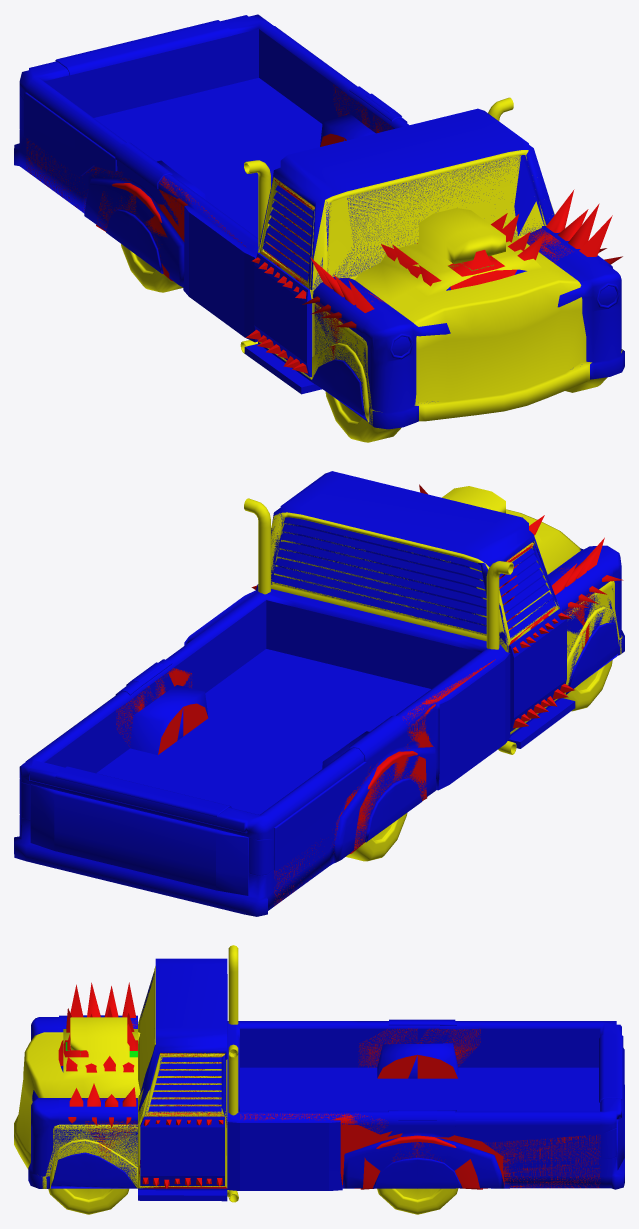
Rendered from truck_unrigged_2.fbx.
The picture shows the model from 3 angles, top to bottom: view 1: azimuth 30°, elevation 25°; view 2: azimuth 150°, elevation 25°; view 3: azimuth 270°, elevation 25°; orthographic projection. The views are drawn at different scales.
Parts seen in each view (by area): view 1: Truck_back_armor, Truck_Front_speed, Truck_Cab_Armor_top, Truck_Front_armor, Truck_Cab_1_top, Truck_Front_Attack, Truck_Cab_Armor_bottom, Truck_Back_normal, polySurface5, polySurface1, Truck_Cab_2_Bottom, Truck_Cab_2_Top; view 2: Truck_back_armor, Truck_Cab_Armor_top, Truck_Cab_1_top, Truck_Cab_Armor_bottom, Truck_Back_normal, Truck_Front_armor, Truck_Front_speed, Truck_Front_Attack, polySurface1, Truck_Cab_2_Bottom, polySurface5; view 3: Truck_back_armor, Truck_Front_speed, Truck_Cab_Armor_top, Truck_Back_normal, Truck_Front_armor, Truck_Cab_Armor_bottom, Truck_Cab_1_top, Truck_Front_Attack, polySurface1, polySurface5, Truck_Cab_2_Bottom, Truck_Cab_2_Top (+1 smaller).
Boxes of the visible parts, x1,y1,x2,y2 form: Truck_back_armor: [14, 14, 409, 342]; Truck_Front_speed: [312, 208, 622, 425]; Truck_Cab_Armor_top: [259, 108, 554, 289]; Truck_Front_armor: [311, 226, 624, 429]; Truck_Cab_1_top: [244, 97, 554, 289]; Truck_Front_Attack: [302, 189, 622, 360]; Truck_Cab_Armor_bottom: [244, 252, 321, 394]; Truck_Back_normal: [26, 85, 392, 281]; polySurface5: [325, 377, 607, 442]; polySurface1: [121, 244, 183, 292]; Truck_Cab_2_Bottom: [246, 257, 307, 373]; Truck_Cab_2_Top: [260, 179, 314, 288]; Truck_back_armor: [14, 589, 510, 916]; Truck_Cab_Armor_top: [271, 471, 559, 646]; Truck_Cab_1_top: [244, 498, 559, 649]; Truck_Cab_Armor_bottom: [255, 584, 575, 748]; Truck_Back_normal: [116, 659, 495, 906]; Truck_Front_armor: [548, 545, 624, 694]; Truck_Front_speed: [442, 486, 622, 694]; Truck_Front_Attack: [419, 484, 623, 649]; polySurface1: [346, 813, 407, 861]; Truck_Cab_2_Bottom: [251, 585, 574, 728]; polySurface5: [563, 660, 612, 711]; Truck_back_armor: [227, 1019, 624, 1190]; Truck_Front_speed: [14, 1017, 140, 1188]; Truck_Cab_Armor_top: [138, 958, 227, 1115]; Truck_Back_normal: [240, 1028, 600, 1189]; Truck_Front_armor: [28, 1015, 137, 1188]; Truck_Cab_Armor_bottom: [138, 1116, 227, 1201]; Truck_Cab_1_top: [138, 945, 238, 1116]; Truck_Front_Attack: [58, 982, 137, 1160]; polySurface1: [377, 1188, 458, 1214]; polySurface5: [48, 1188, 129, 1214]; Truck_Cab_2_Bottom: [139, 1118, 226, 1188]; Truck_Cab_2_Top: [146, 1053, 224, 1116].
Size of the model in its own units: 3.26 by 2.33 by 7.45.
